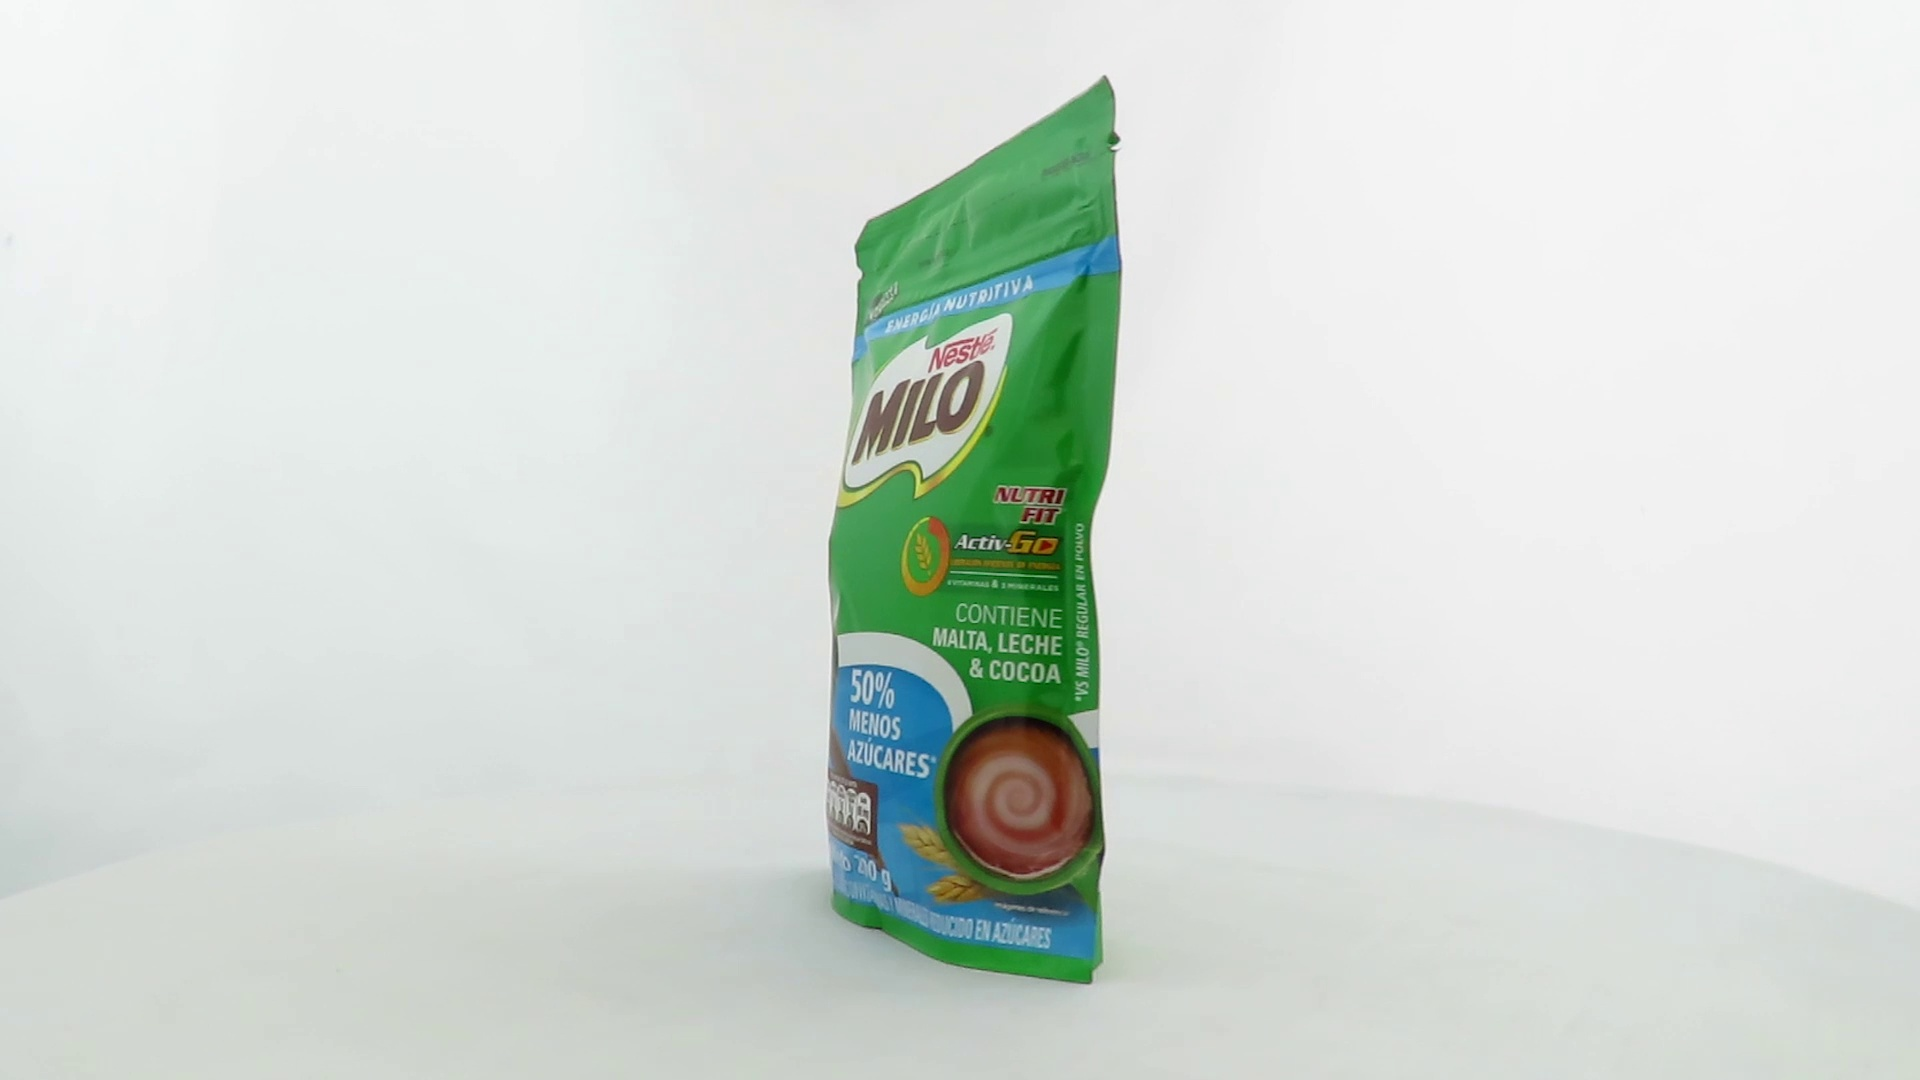COL0170205DYP20000: (822, 70, 1127, 992)
